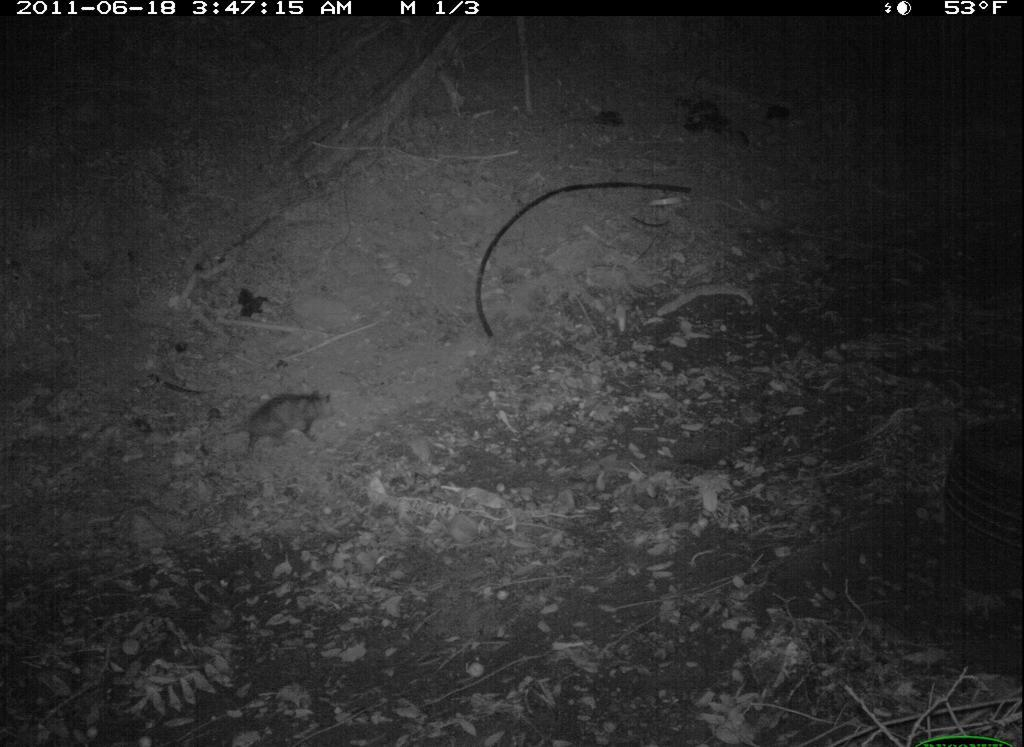opossum: (181, 383, 340, 464)
